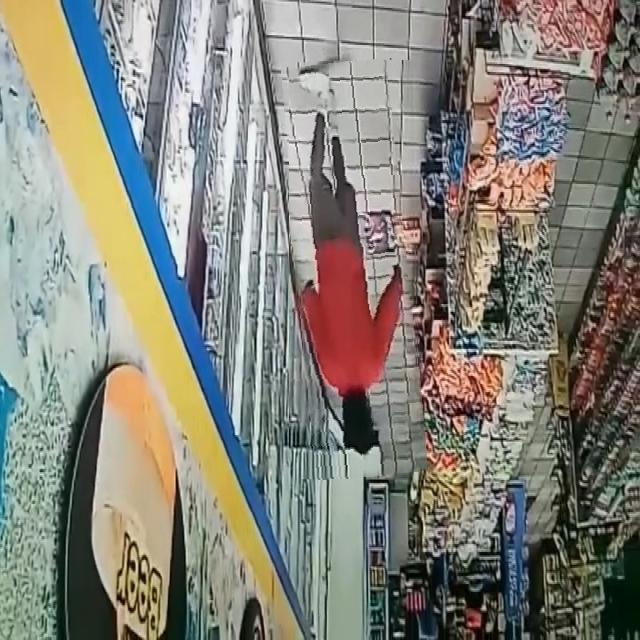Normal: (289, 60, 419, 479)
